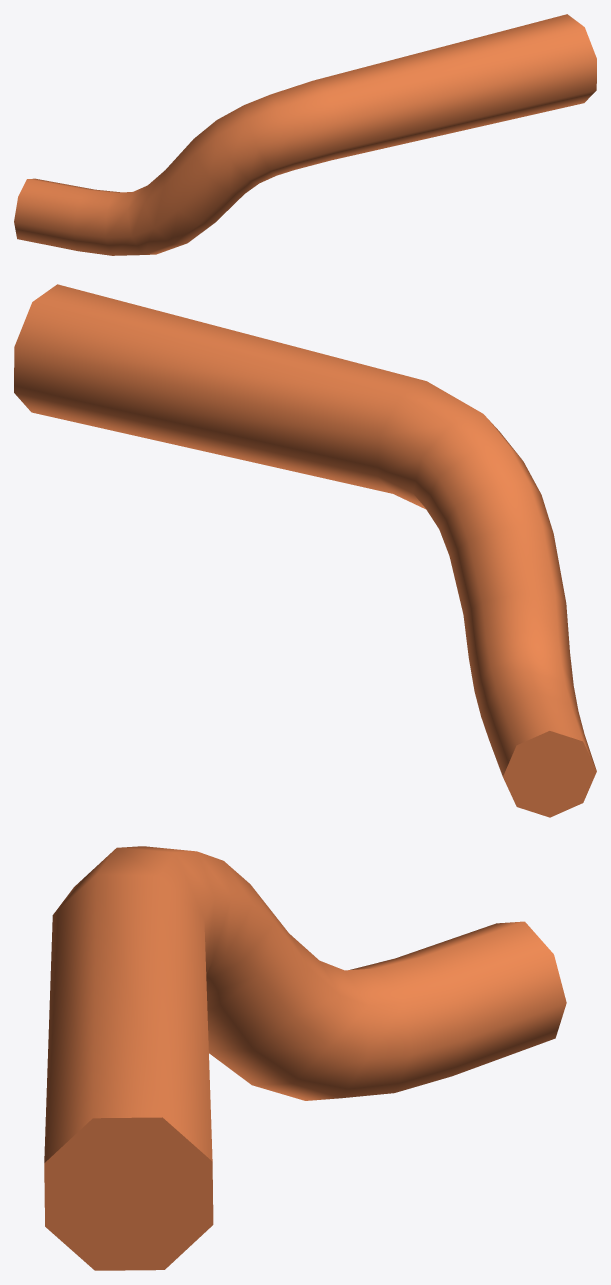
Rendered from SP_House13_Pipe04.fbx.
3 views of the same model, one above another, from view 1: azimuth 30°, elevation 25°; view 2: azimuth 150°, elevation 25°; view 3: azimuth 270°, elevation 25° (orthographic). The views are drawn at different scales.
Visible parts, largest first — view 1: SP_House13_Pipe04; view 2: SP_House13_Pipe04; view 3: SP_House13_Pipe04.
Boxes of the visible parts, <box> form: SP_House13_Pipe04: <box>14,14,596,255</box>; SP_House13_Pipe04: <box>14,284,596,817</box>; SP_House13_Pipe04: <box>44,846,566,1270</box>.
Size of the model in its own units: 1.48 by 0.5466 by 0.707.
